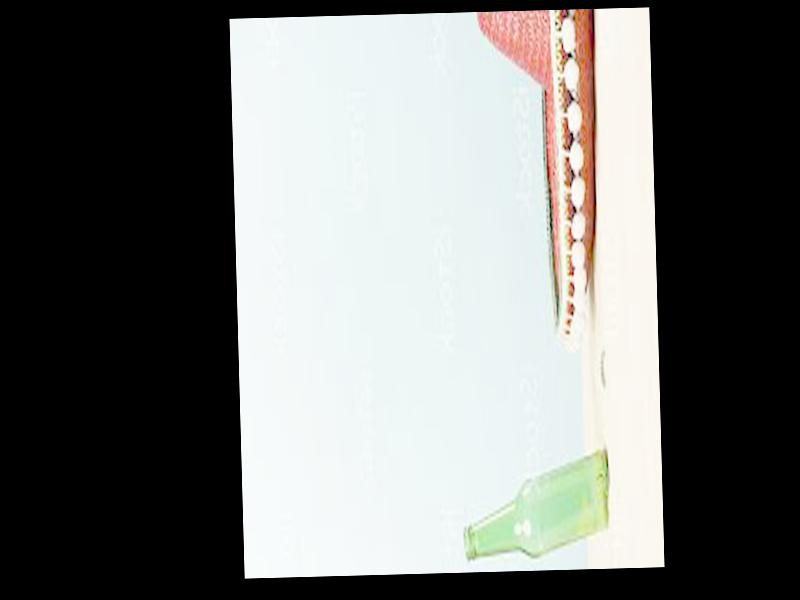Beer: (460, 446, 614, 557)
